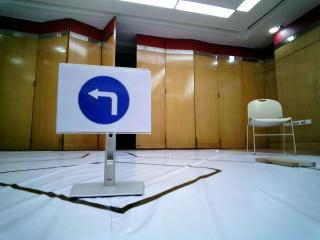left: (59, 68, 135, 129)
